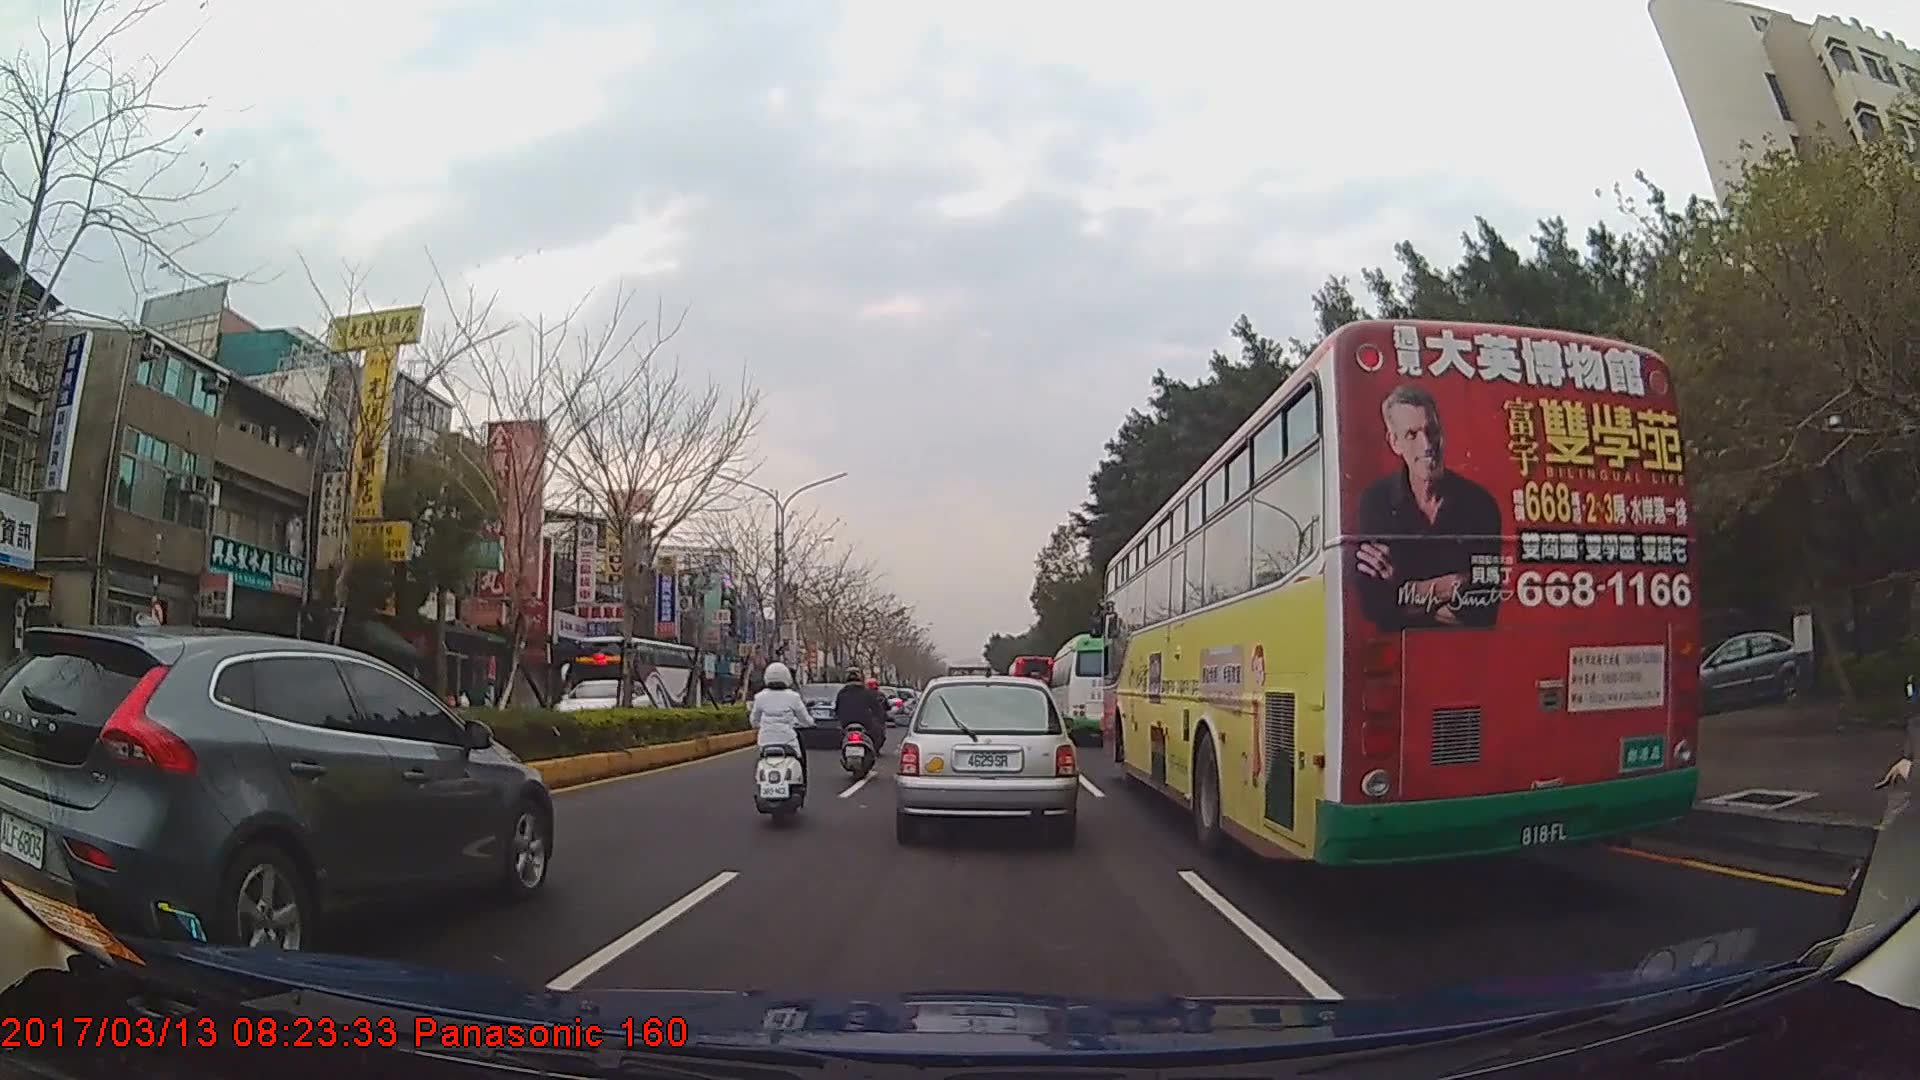rider: (745, 661, 813, 829), (836, 669, 887, 776), (860, 676, 891, 758)
vehicle: (1100, 317, 1699, 871), (0, 627, 552, 961), (900, 672, 1077, 843), (568, 634, 700, 730), (1048, 632, 1135, 749), (552, 677, 656, 734), (785, 682, 864, 748), (1005, 649, 1055, 722)
